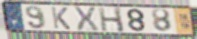8: (151, 8, 172, 34), (127, 8, 148, 33)
9: (24, 5, 47, 30)
H: (97, 6, 126, 33)
K: (49, 6, 72, 31)
X: (72, 5, 101, 32)
